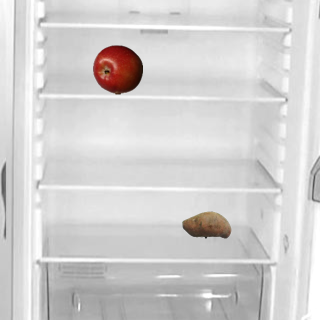Apple Braeburn: (92, 44, 142, 94)
Potato Sweet: (181, 199, 231, 249)
